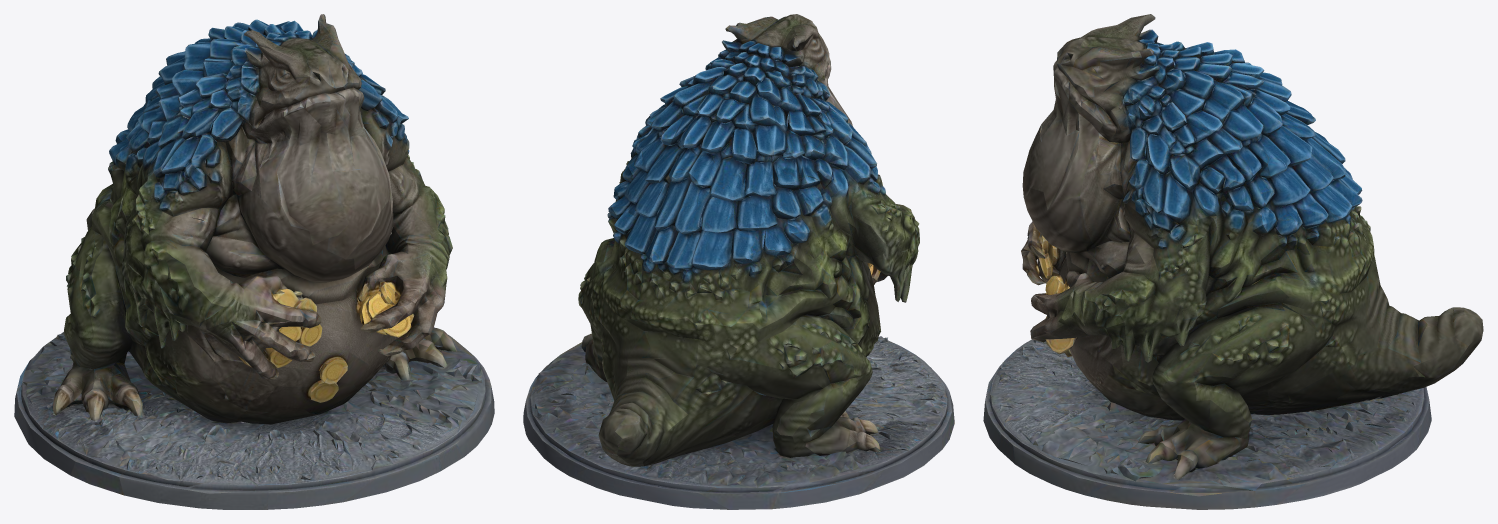
Rendered from bolgin.glb.
The picture shows the model from 3 angles, left to right: view 1: azimuth 30°, elevation 25°; view 2: azimuth 150°, elevation 25°; view 3: azimuth 270°, elevation 25°; orthographic projection. The views are drawn at different scales.
Parts seen in each view (by area): view 1: output_unwrapped; view 2: output_unwrapped; view 3: output_unwrapped.
Boxes of the visible parts, x1,y1,x2,y2 form: output_unwrapped: [14, 14, 494, 509]; output_unwrapped: [523, 14, 954, 509]; output_unwrapped: [983, 14, 1483, 509].
Size of the model in its own units: 1.72 by 1.62 by 1.9.
1 material, 1 textured.
